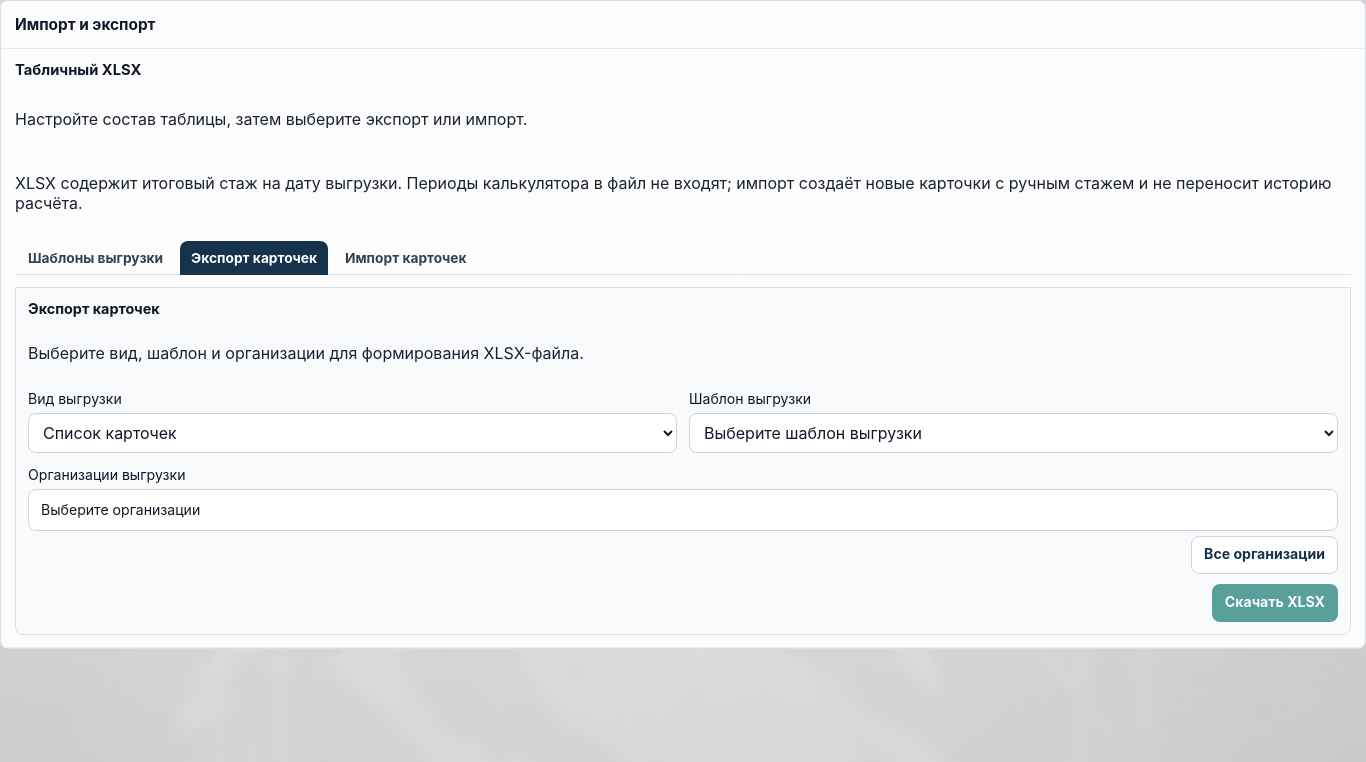
Test: refreshes occupied codes after a create conflict and retries only after explicit save
The width and height of the screenshot is (1366, 762).
Step 1. Click the tab "Шаблоны выгрузки" → (96, 258), box [17,241,174,275]
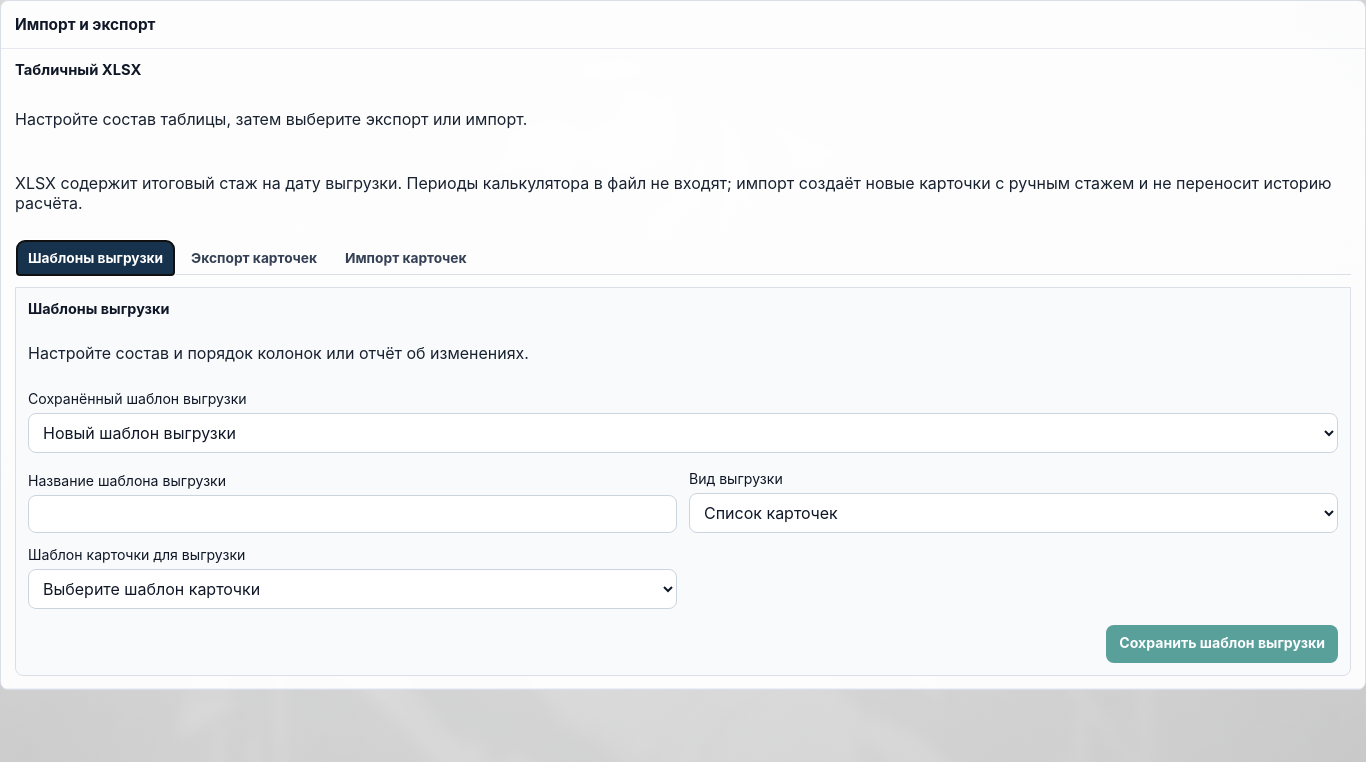
Expected: the dropdown labelled "Сохранённый шаблон выгрузки" is shown, [28,413,1338,453]
Step 2. Type "Список отдела" into the field labelled "Название шаблона выгрузки" → (352, 514), box [28,495,677,533]
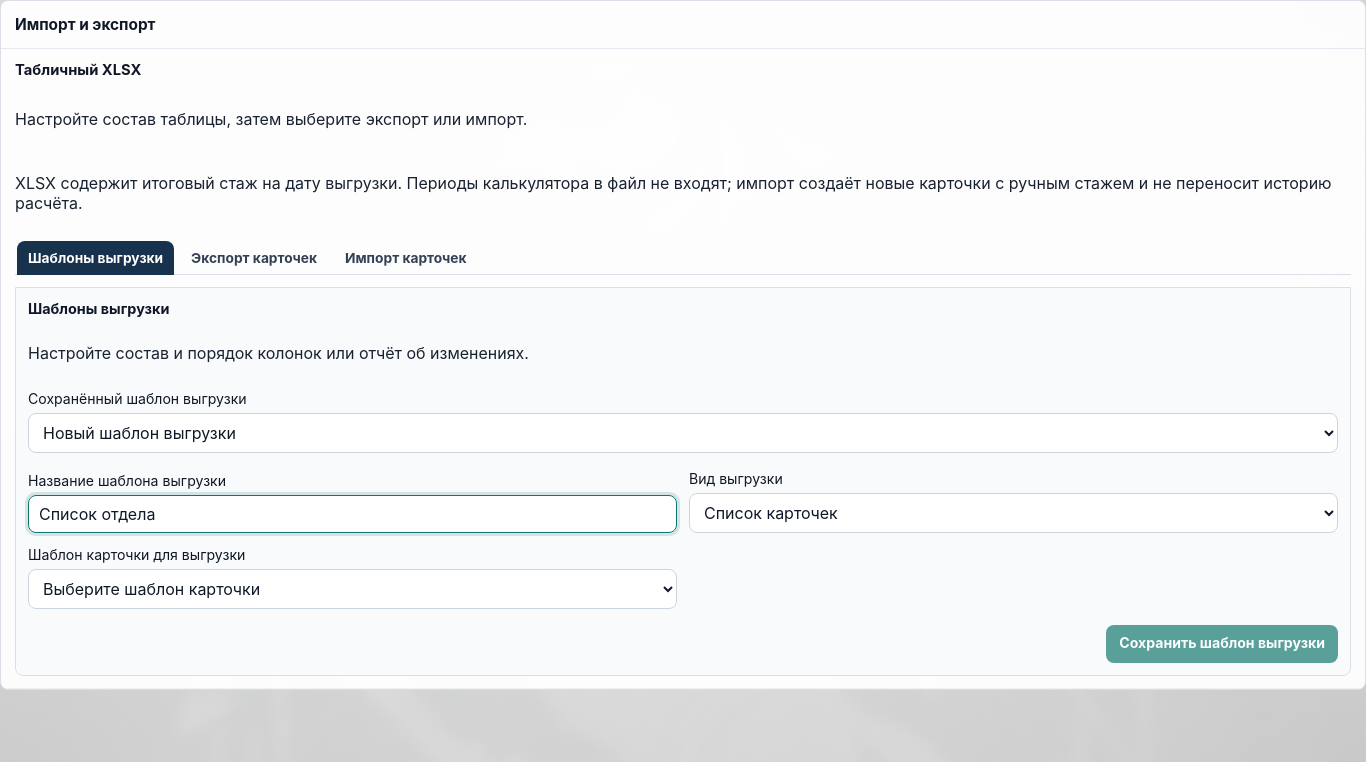
Step 3. Select "Сведения" in the dropdown labelled "Шаблон карточки для выгрузки" → (352, 589), box [28,569,677,609]
(page scrolled)
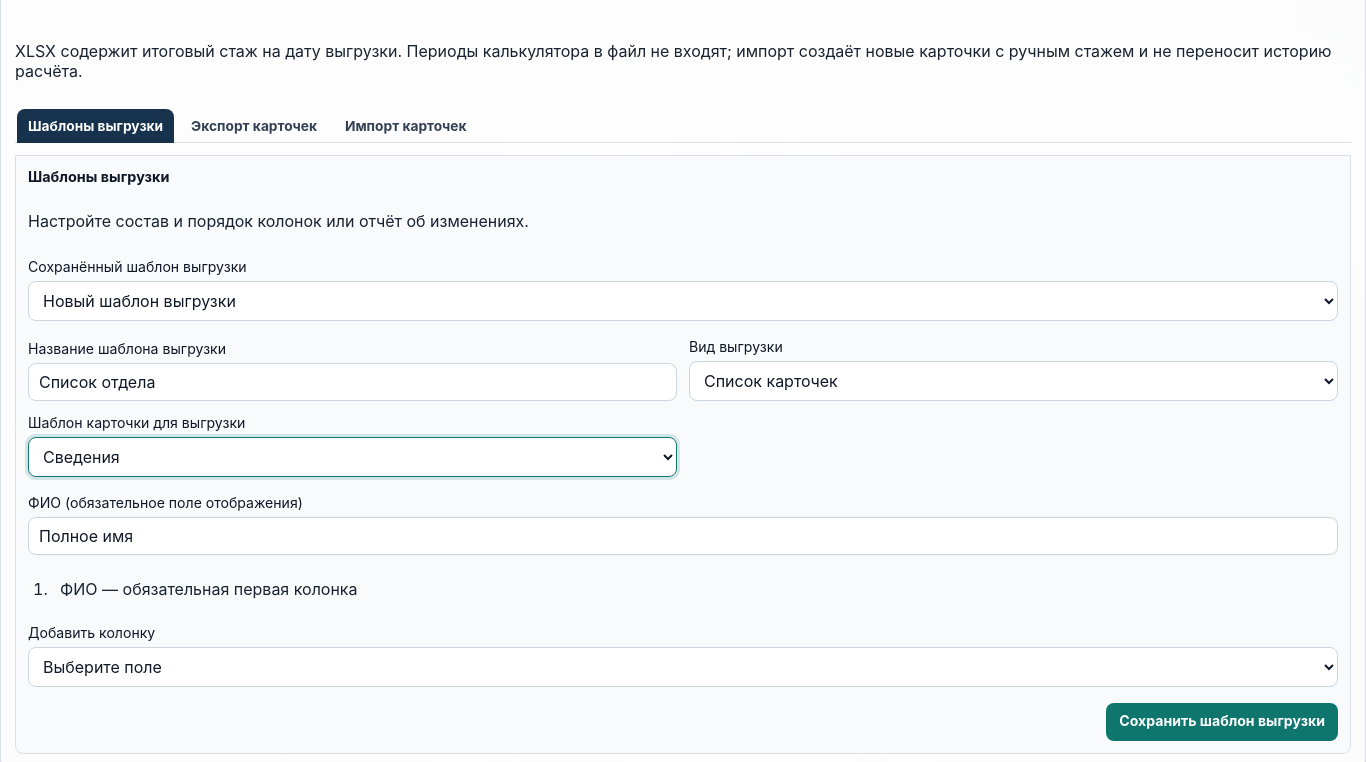
Step 4. Click the button "Сохранить шаблон выгрузки" → (1222, 722), box [1106,703,1338,741]
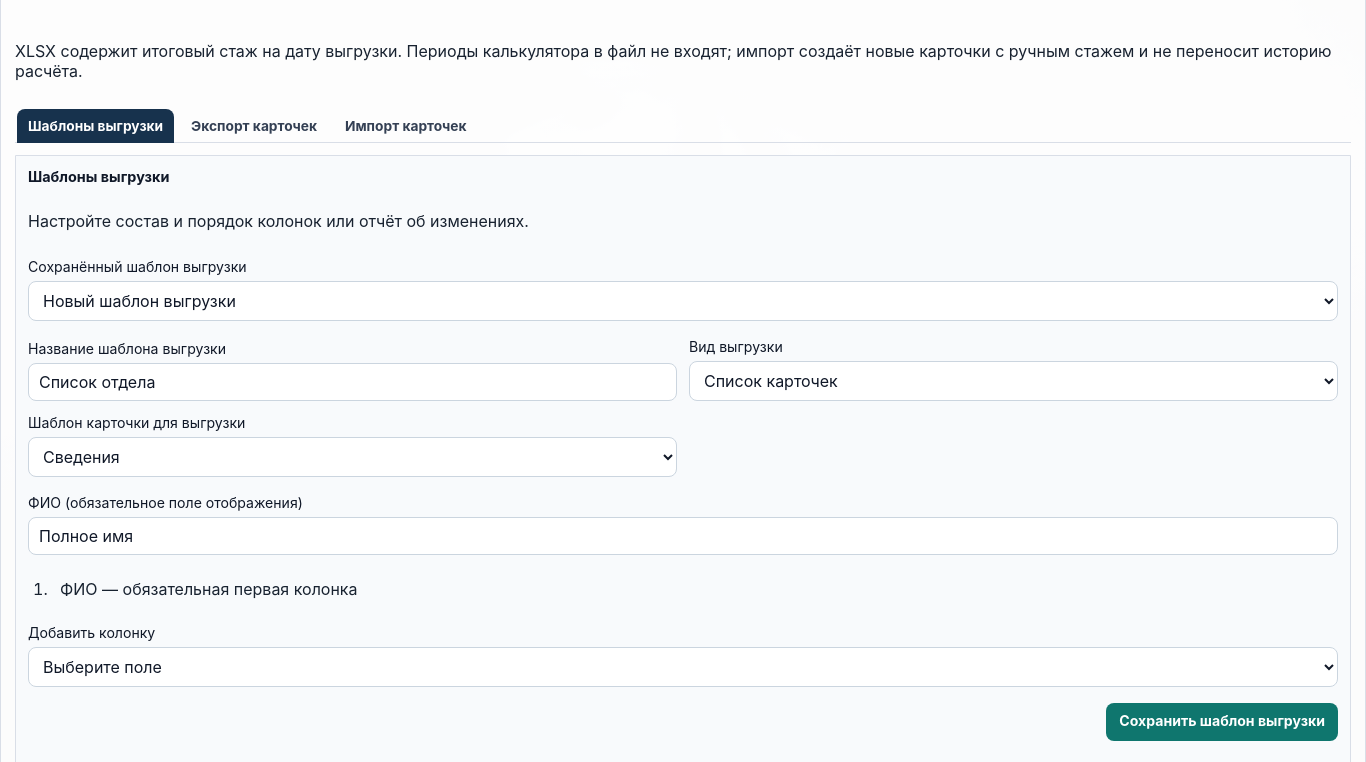
Step 5. Click the button "Сохранить шаблон выгрузки" → (1222, 722), box [1106,703,1338,741]
(page scrolled)
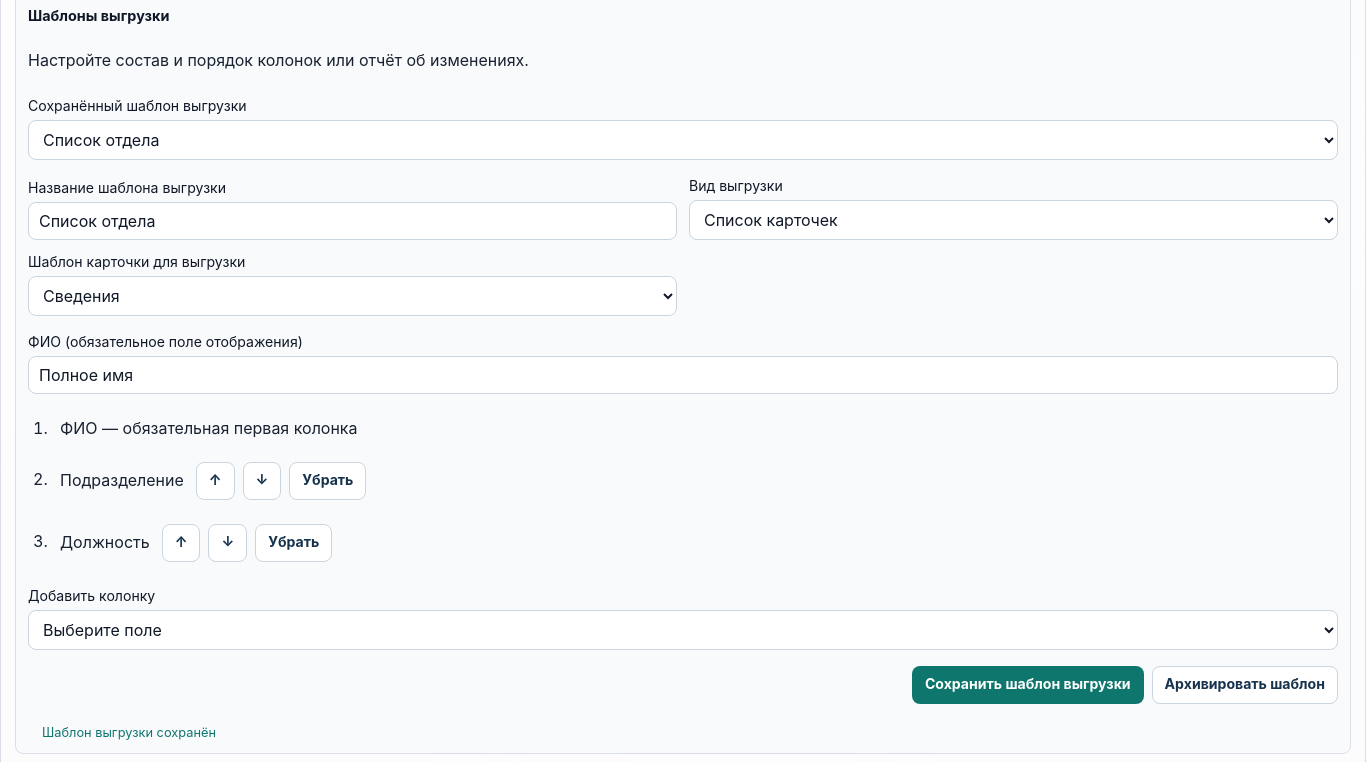
Now the message reads "Шаблон выгрузки сохранён", box [42,725,216,740]
